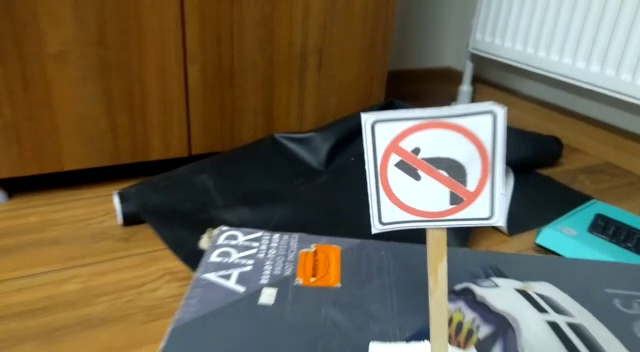sola_donulmez: (371, 111, 492, 231)
